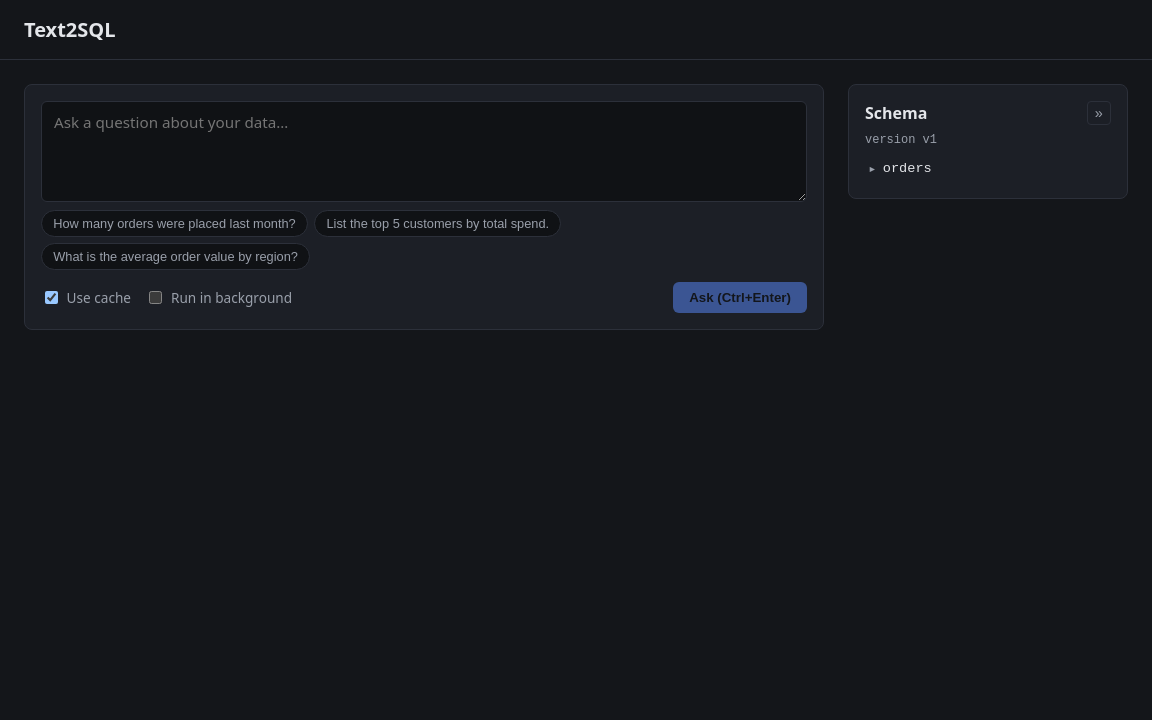
Test case: App › shows the error banner when the pipeline returns a 200 with an error field
Type "anything" into the text box with placeholder "Ask a question about your data…" at (424, 152), box x1=41 y1=101 x2=807 y2=202
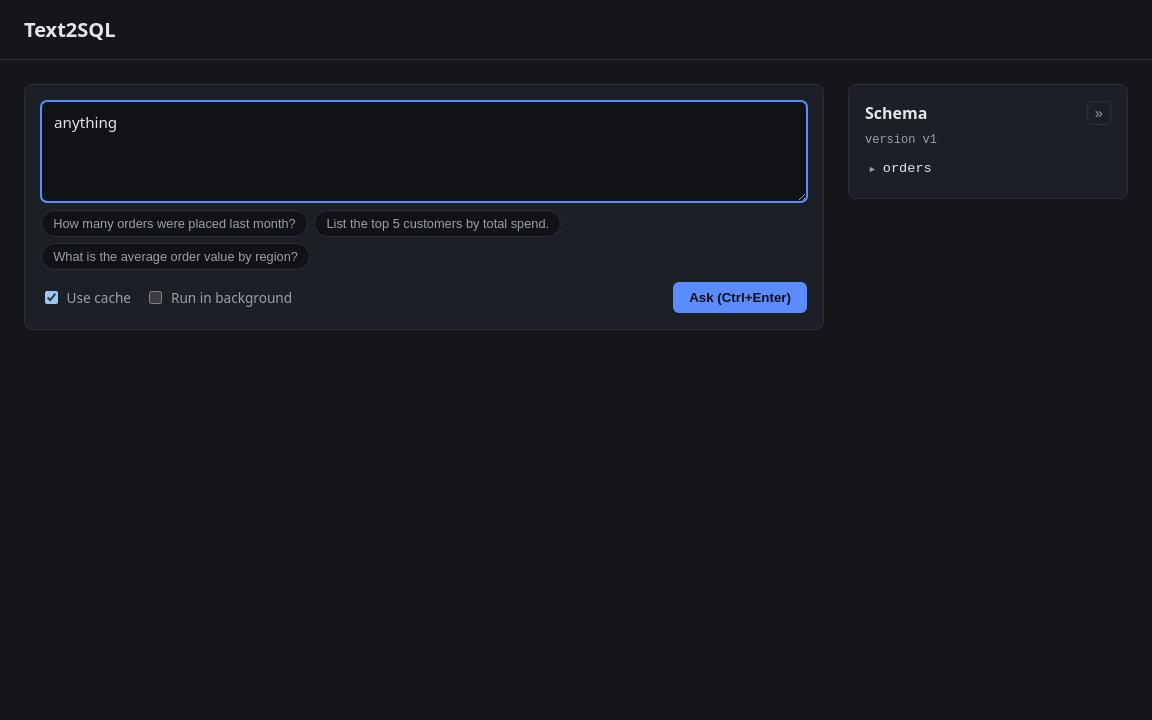
Click the button "Ask (Ctrl+Enter)" at (740, 297), box x1=673 y1=282 x2=807 y2=313
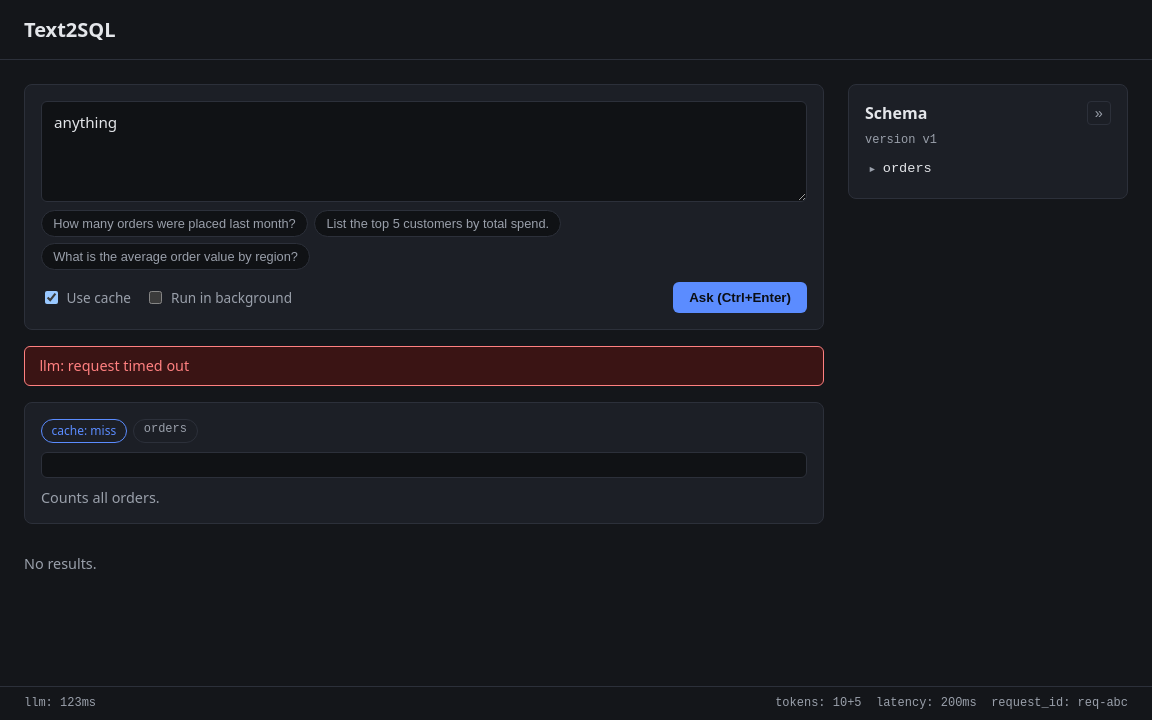
Check: the message reads "llm: request timed out", box x1=39 y1=356 x2=189 y2=375
